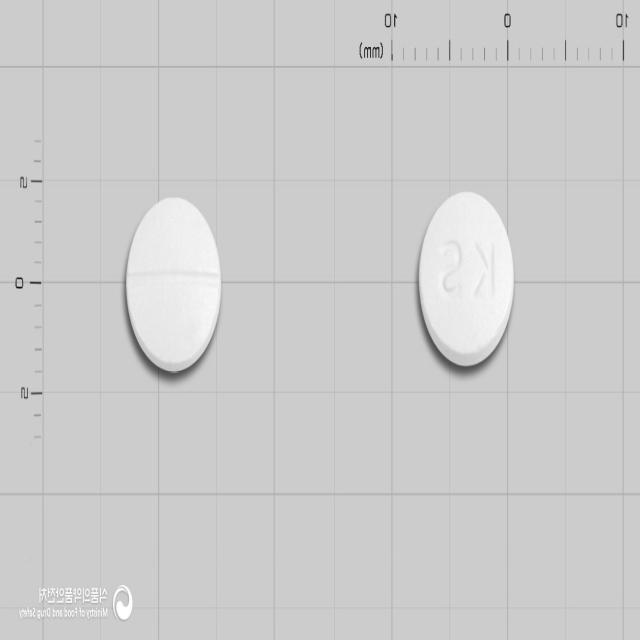Clacid -500mg: (124, 196, 221, 374), (419, 190, 514, 366)
